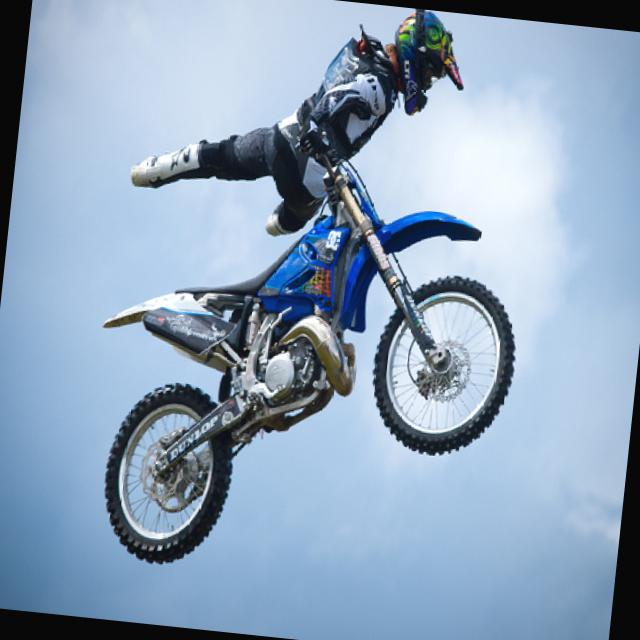Vehicle: (76, 84, 541, 601)
